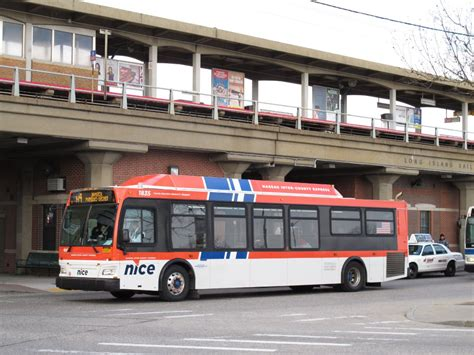bus: (55, 177, 409, 298)
